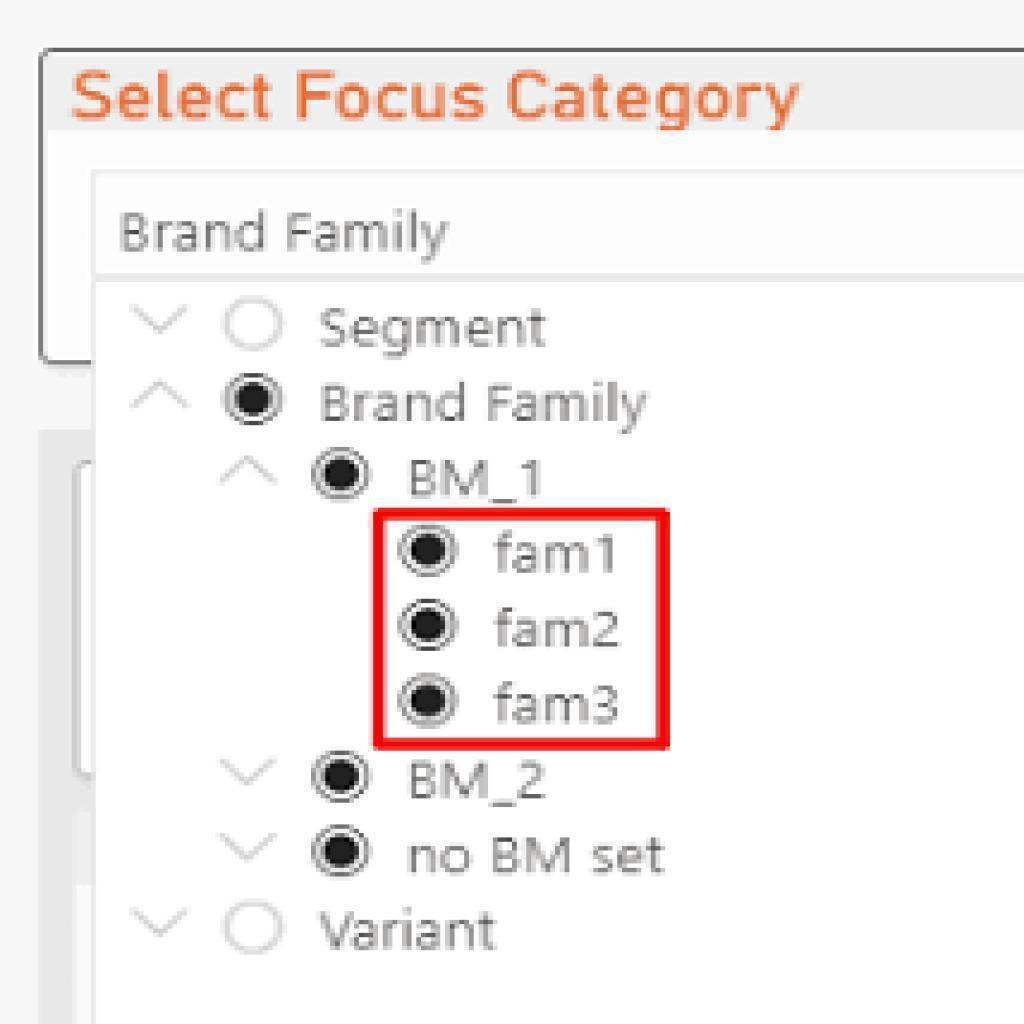label: (318, 379, 649, 436), (315, 299, 550, 362), (406, 831, 665, 878), (319, 905, 501, 955), (400, 454, 545, 506), (491, 674, 621, 732), (493, 600, 625, 654), (409, 758, 551, 807), (492, 528, 619, 580)
radio: (214, 367, 294, 434), (217, 288, 289, 355), (303, 446, 378, 506), (219, 899, 291, 957), (395, 671, 462, 730), (395, 597, 463, 655), (309, 748, 374, 803), (397, 523, 463, 577), (310, 823, 373, 877)
